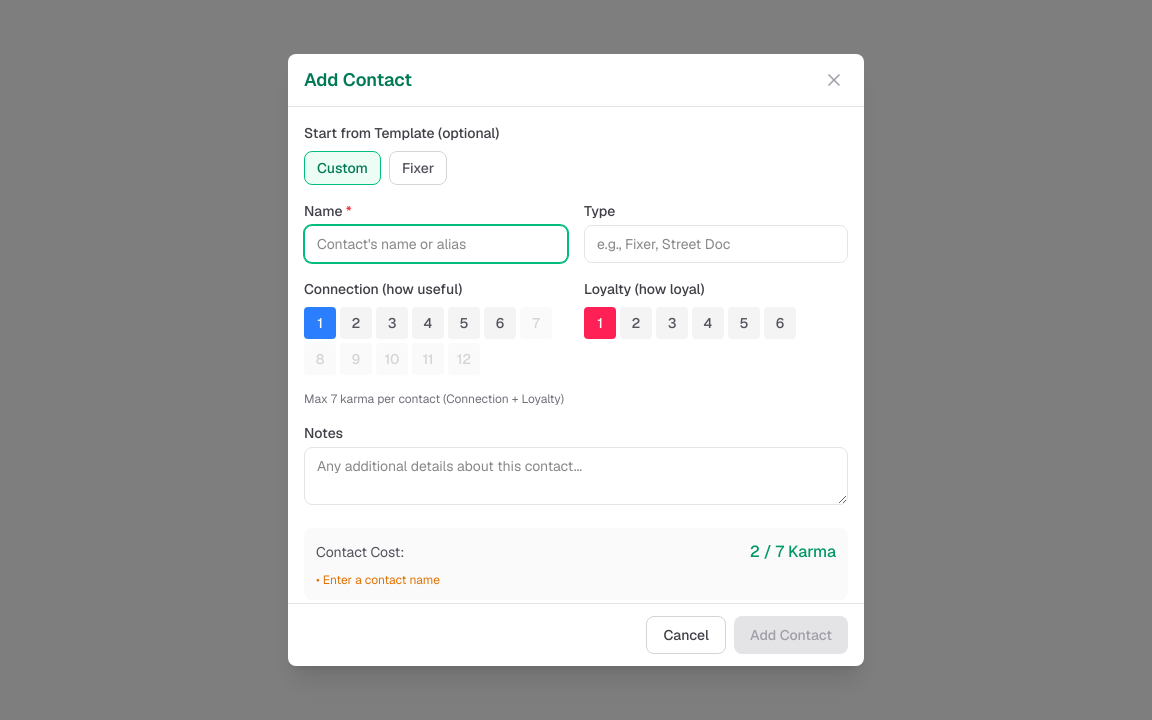
it: ContactModal › template selection › populates form when template is selected
The image size is (1152, 720).
Click the button "Fixer": coordinates (418, 168) [389,151,447,185]
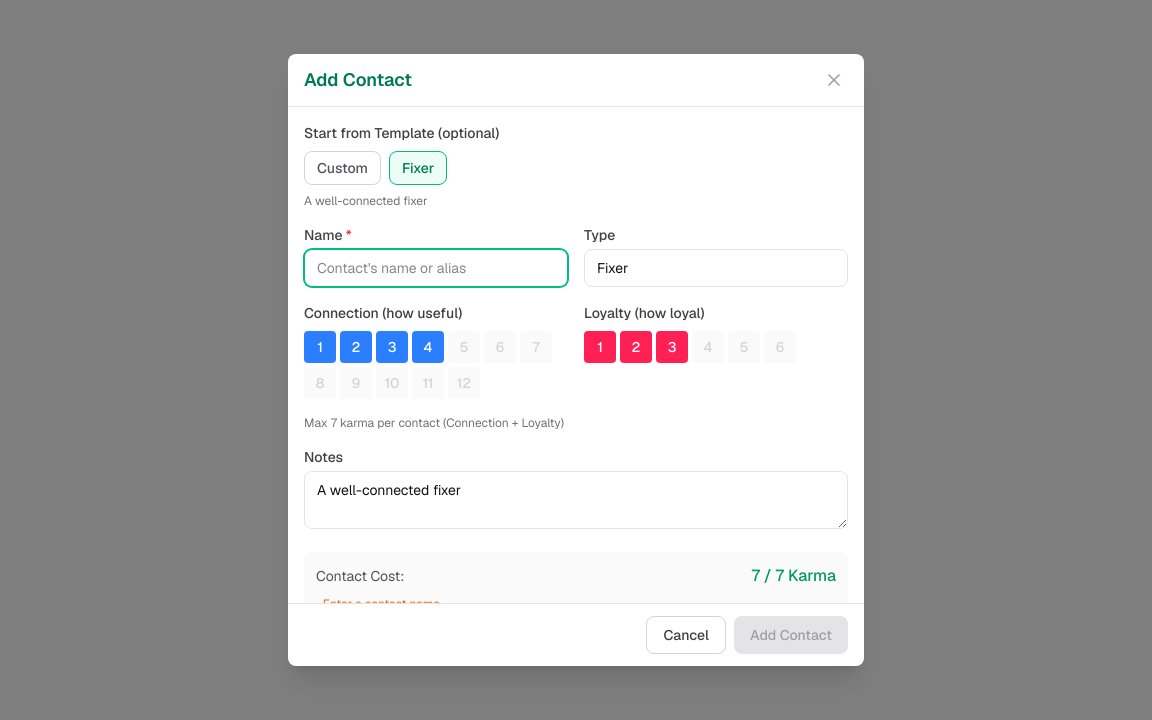
Expected: the field with placeholder "e.g., Fixer, Street Doc" holds "Fixer", [584,249,848,287]
